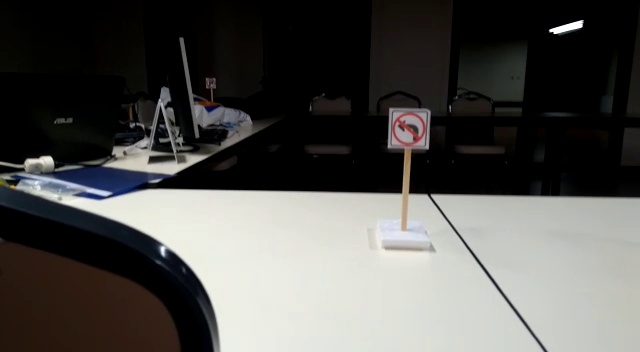sola_donulmez: (390, 108, 430, 149)
